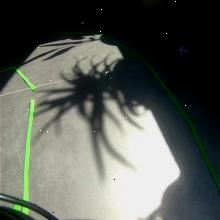left: (176, 40, 190, 59)
